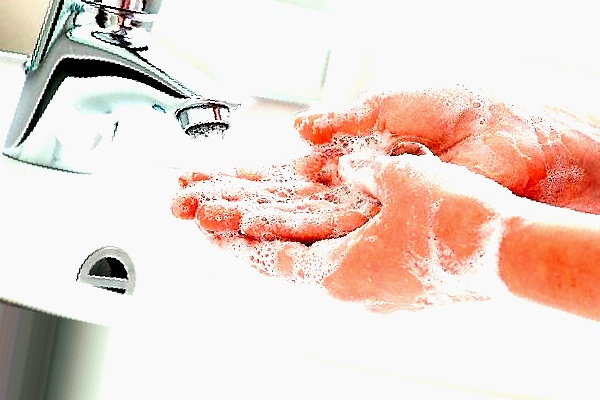washing hand: (0, 0, 582, 379)
